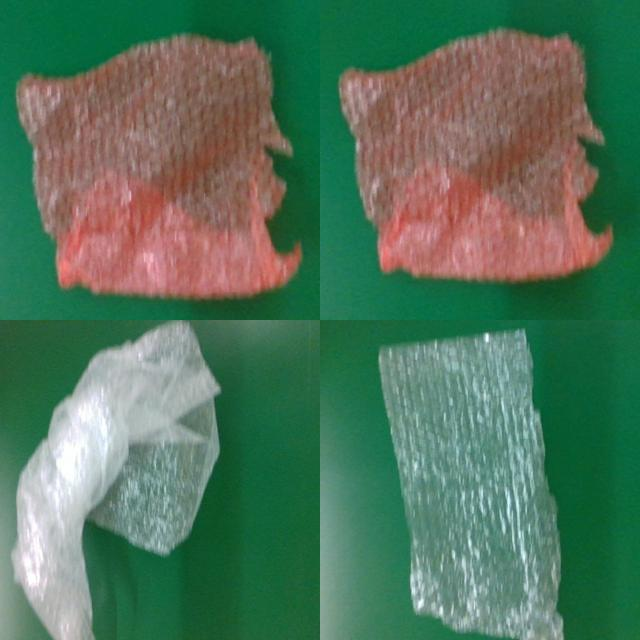Single-layer Plastic: (18, 35, 301, 299), (340, 30, 612, 281), (12, 321, 220, 640), (379, 330, 564, 640)
